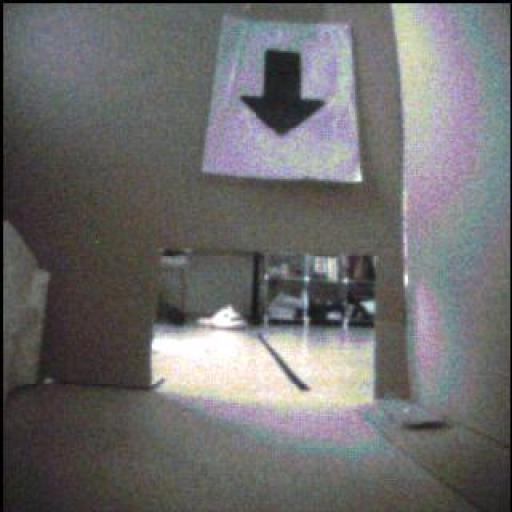arrow: (243, 51, 326, 136)
